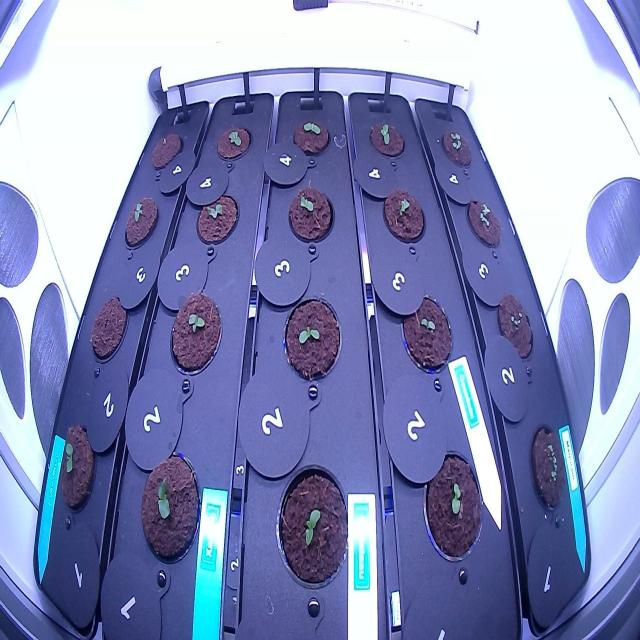germination: (268, 458, 360, 598), (416, 436, 487, 574), (133, 443, 204, 576), (275, 289, 348, 392), (398, 284, 456, 381), (165, 290, 225, 378), (524, 416, 574, 521), (54, 418, 98, 516), (285, 182, 339, 250), (489, 287, 537, 363), (379, 185, 428, 251), (194, 188, 242, 254), (462, 189, 506, 255), (121, 189, 162, 255), (364, 113, 408, 165), (211, 118, 254, 169), (285, 114, 333, 159), (436, 120, 476, 173), (148, 126, 187, 177)
pod: (86, 288, 132, 368)
